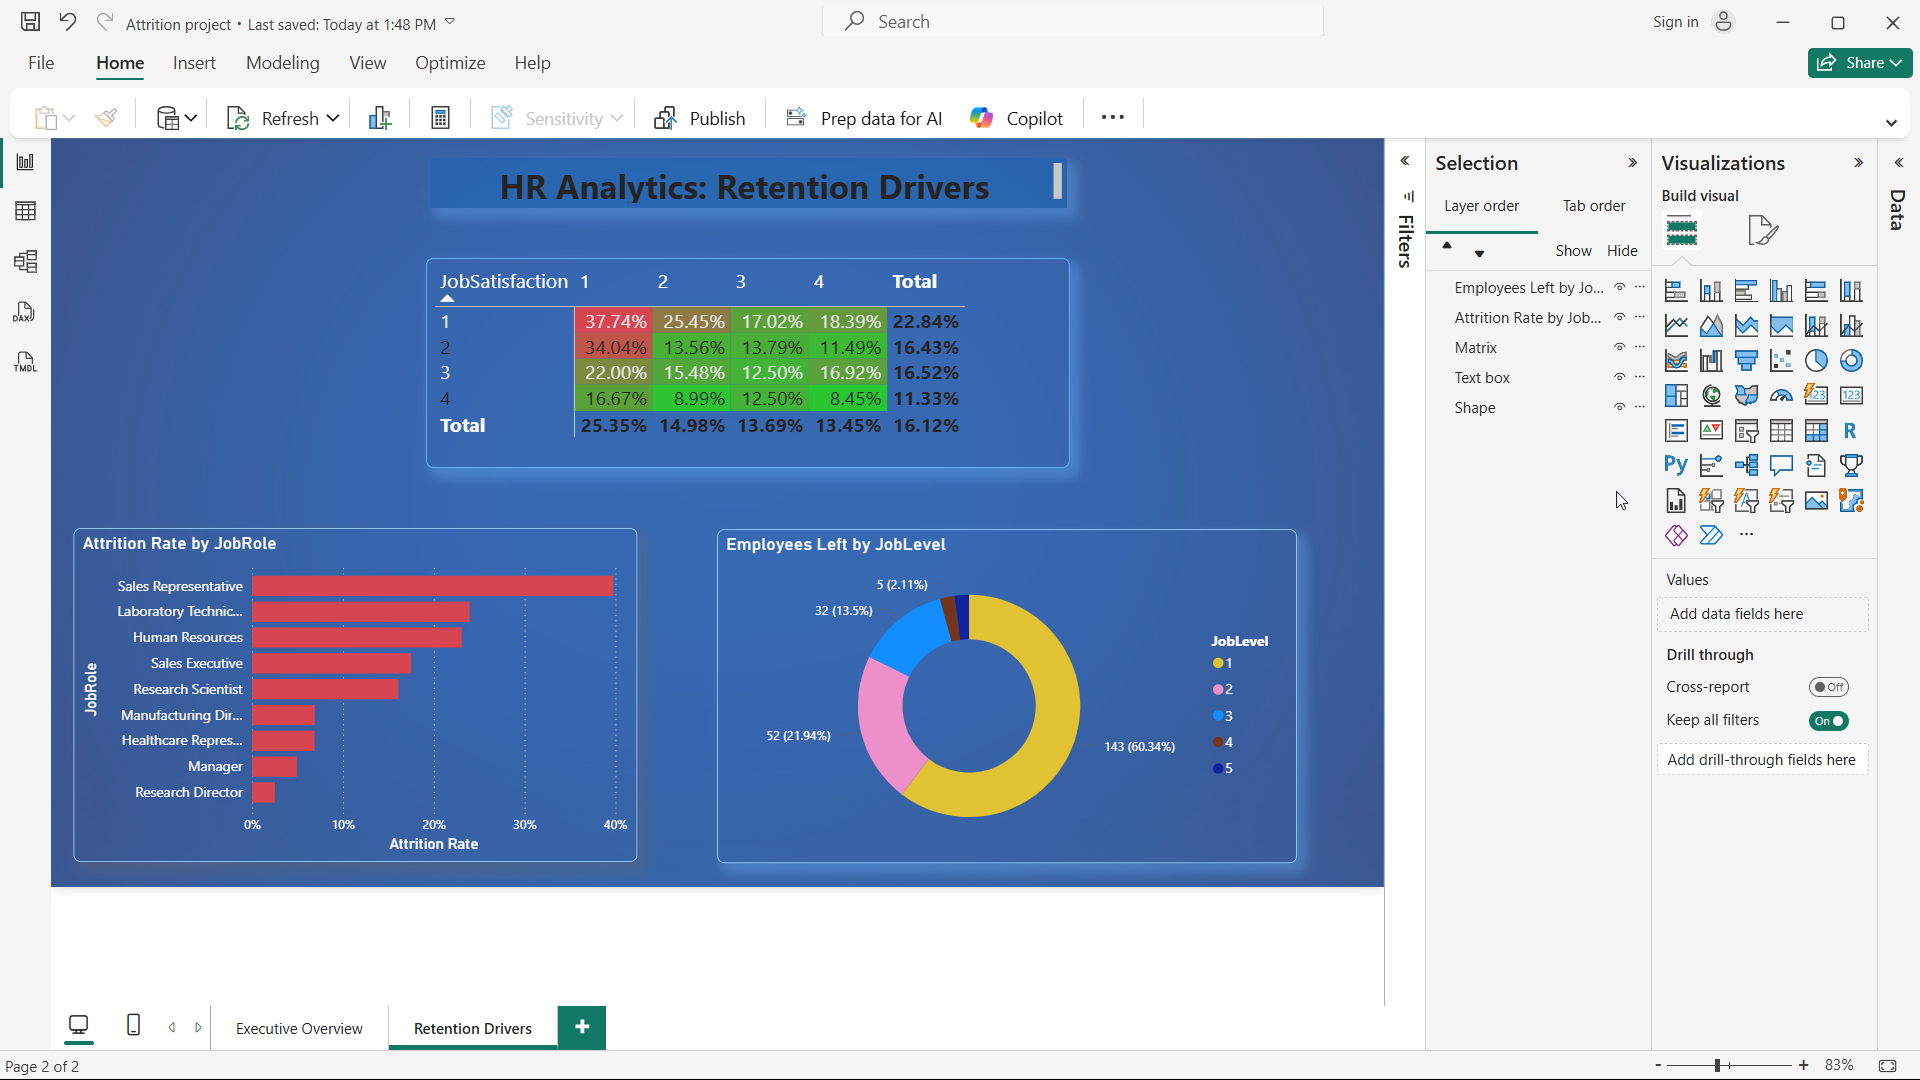

This screenshot's page, from the dashboard's own definition file:
{"tool":"powerbi","page":{"name":"Retention Drivers","canvas":[1280,720],"ordinal":1},"visuals":[{"type":"shape","box":[0,1.1,1280,719.2],"z":500},{"type":"textbox","box":[363.8,19.2,612.4,48],"z":1000},{"type":"pivotTable","fields":{"Rows":["employee_db employee_attrition.JobSatisfaction"],"Columns":["employee_db employee_attrition.EnvironmentSatisfaction"],"Values":["employee_db employee_attrition.Attition Rate"]},"box":[360.2,115.3,618.4,201.7],"z":2000},{"type":"clusteredBarChart","fields":{"Category":["employee_db employee_attrition.JobRole"],"Y":["employee_db employee_attrition.Attition Rate"]},"box":[22.2,374.9,541.8,321.1],"z":3000},{"type":"donutChart","fields":{"Category":["employee_db employee_attrition.JobLevel"],"Y":["employee_db employee_attrition.Employeees Left"]},"box":[640,375.8,557.1,320.6],"z":4000}]}

Visuals, with their boxes on the page's 1280x720 design canvas (x1, y1, x2, y2). These are canvas units, not pixel positions in the 1920x1080 screenshot, which may show the page scaled, cropped or inside an application window:
shape: (x1=0, y1=1, x2=1280, y2=720)
textbox: (x1=364, y1=19, x2=976, y2=67)
pivotTable - employee_db employee_attrition.JobSatisfaction x employee_db employee_attrition.EnvironmentSatisfaction: (x1=360, y1=115, x2=979, y2=317)
clusteredBarChart - employee_db employee_attrition.JobRole x employee_db employee_attrition.Attition Rate: (x1=22, y1=375, x2=564, y2=696)
donutChart - employee_db employee_attrition.JobLevel x employee_db employee_attrition.Employeees Left: (x1=640, y1=376, x2=1197, y2=696)
